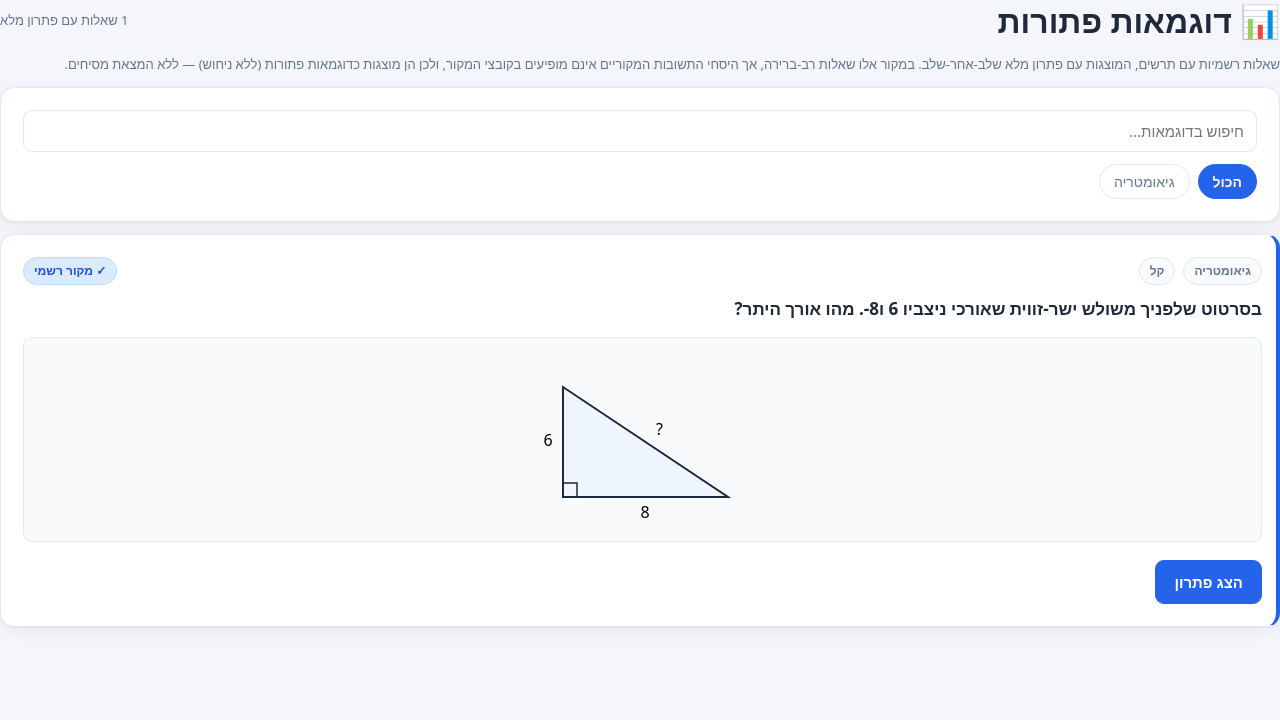
worked examples mode › lists an official example and reveals its full solution only on demand
The width and height of the screenshot is (1280, 720).
Expected: the text "משולש ישר-זווית" is shown, [734,297,1262,320]
Expected: the text "פיתגורס" is not shown
Click the button "הצג פתרון" at (1209, 582), box [1155,560,1262,604]
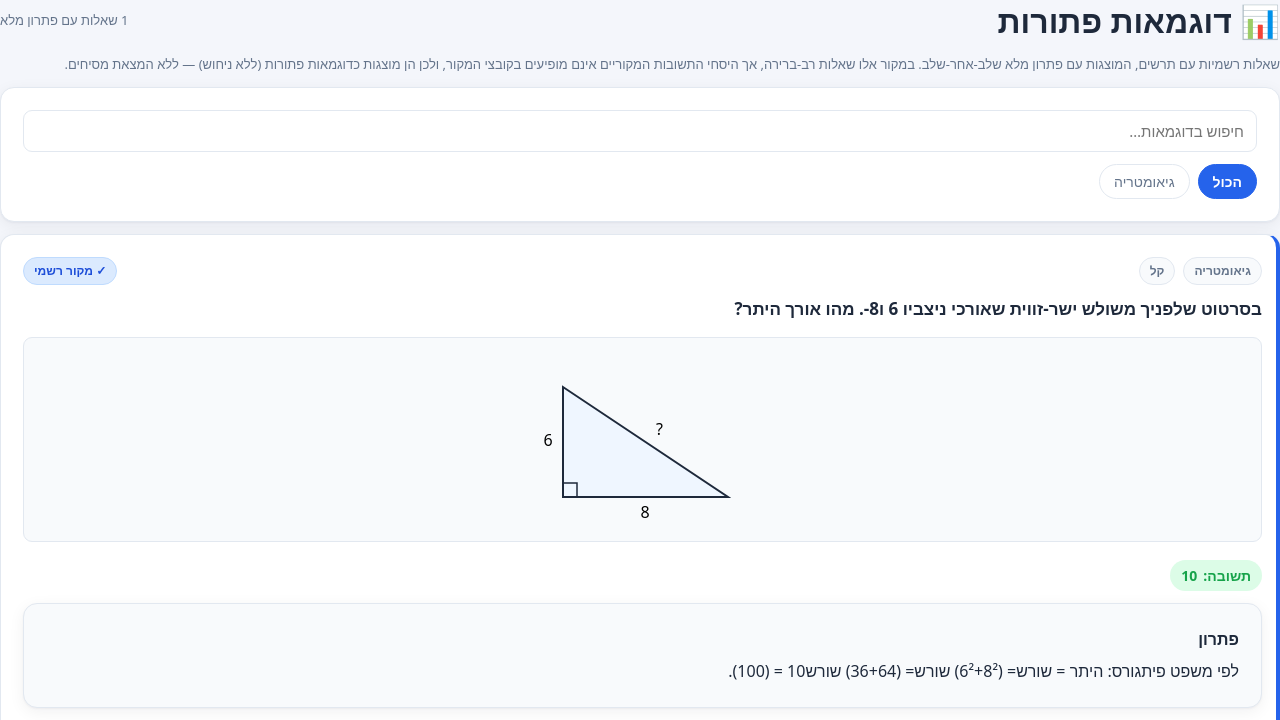
Expected: the picture named "משולש" is shown, [23,337,1262,542]
Now the text "פיתגורס" is shown, box [1112,660,1166,682]
